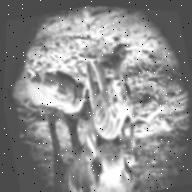boar: (66, 35, 155, 151)
